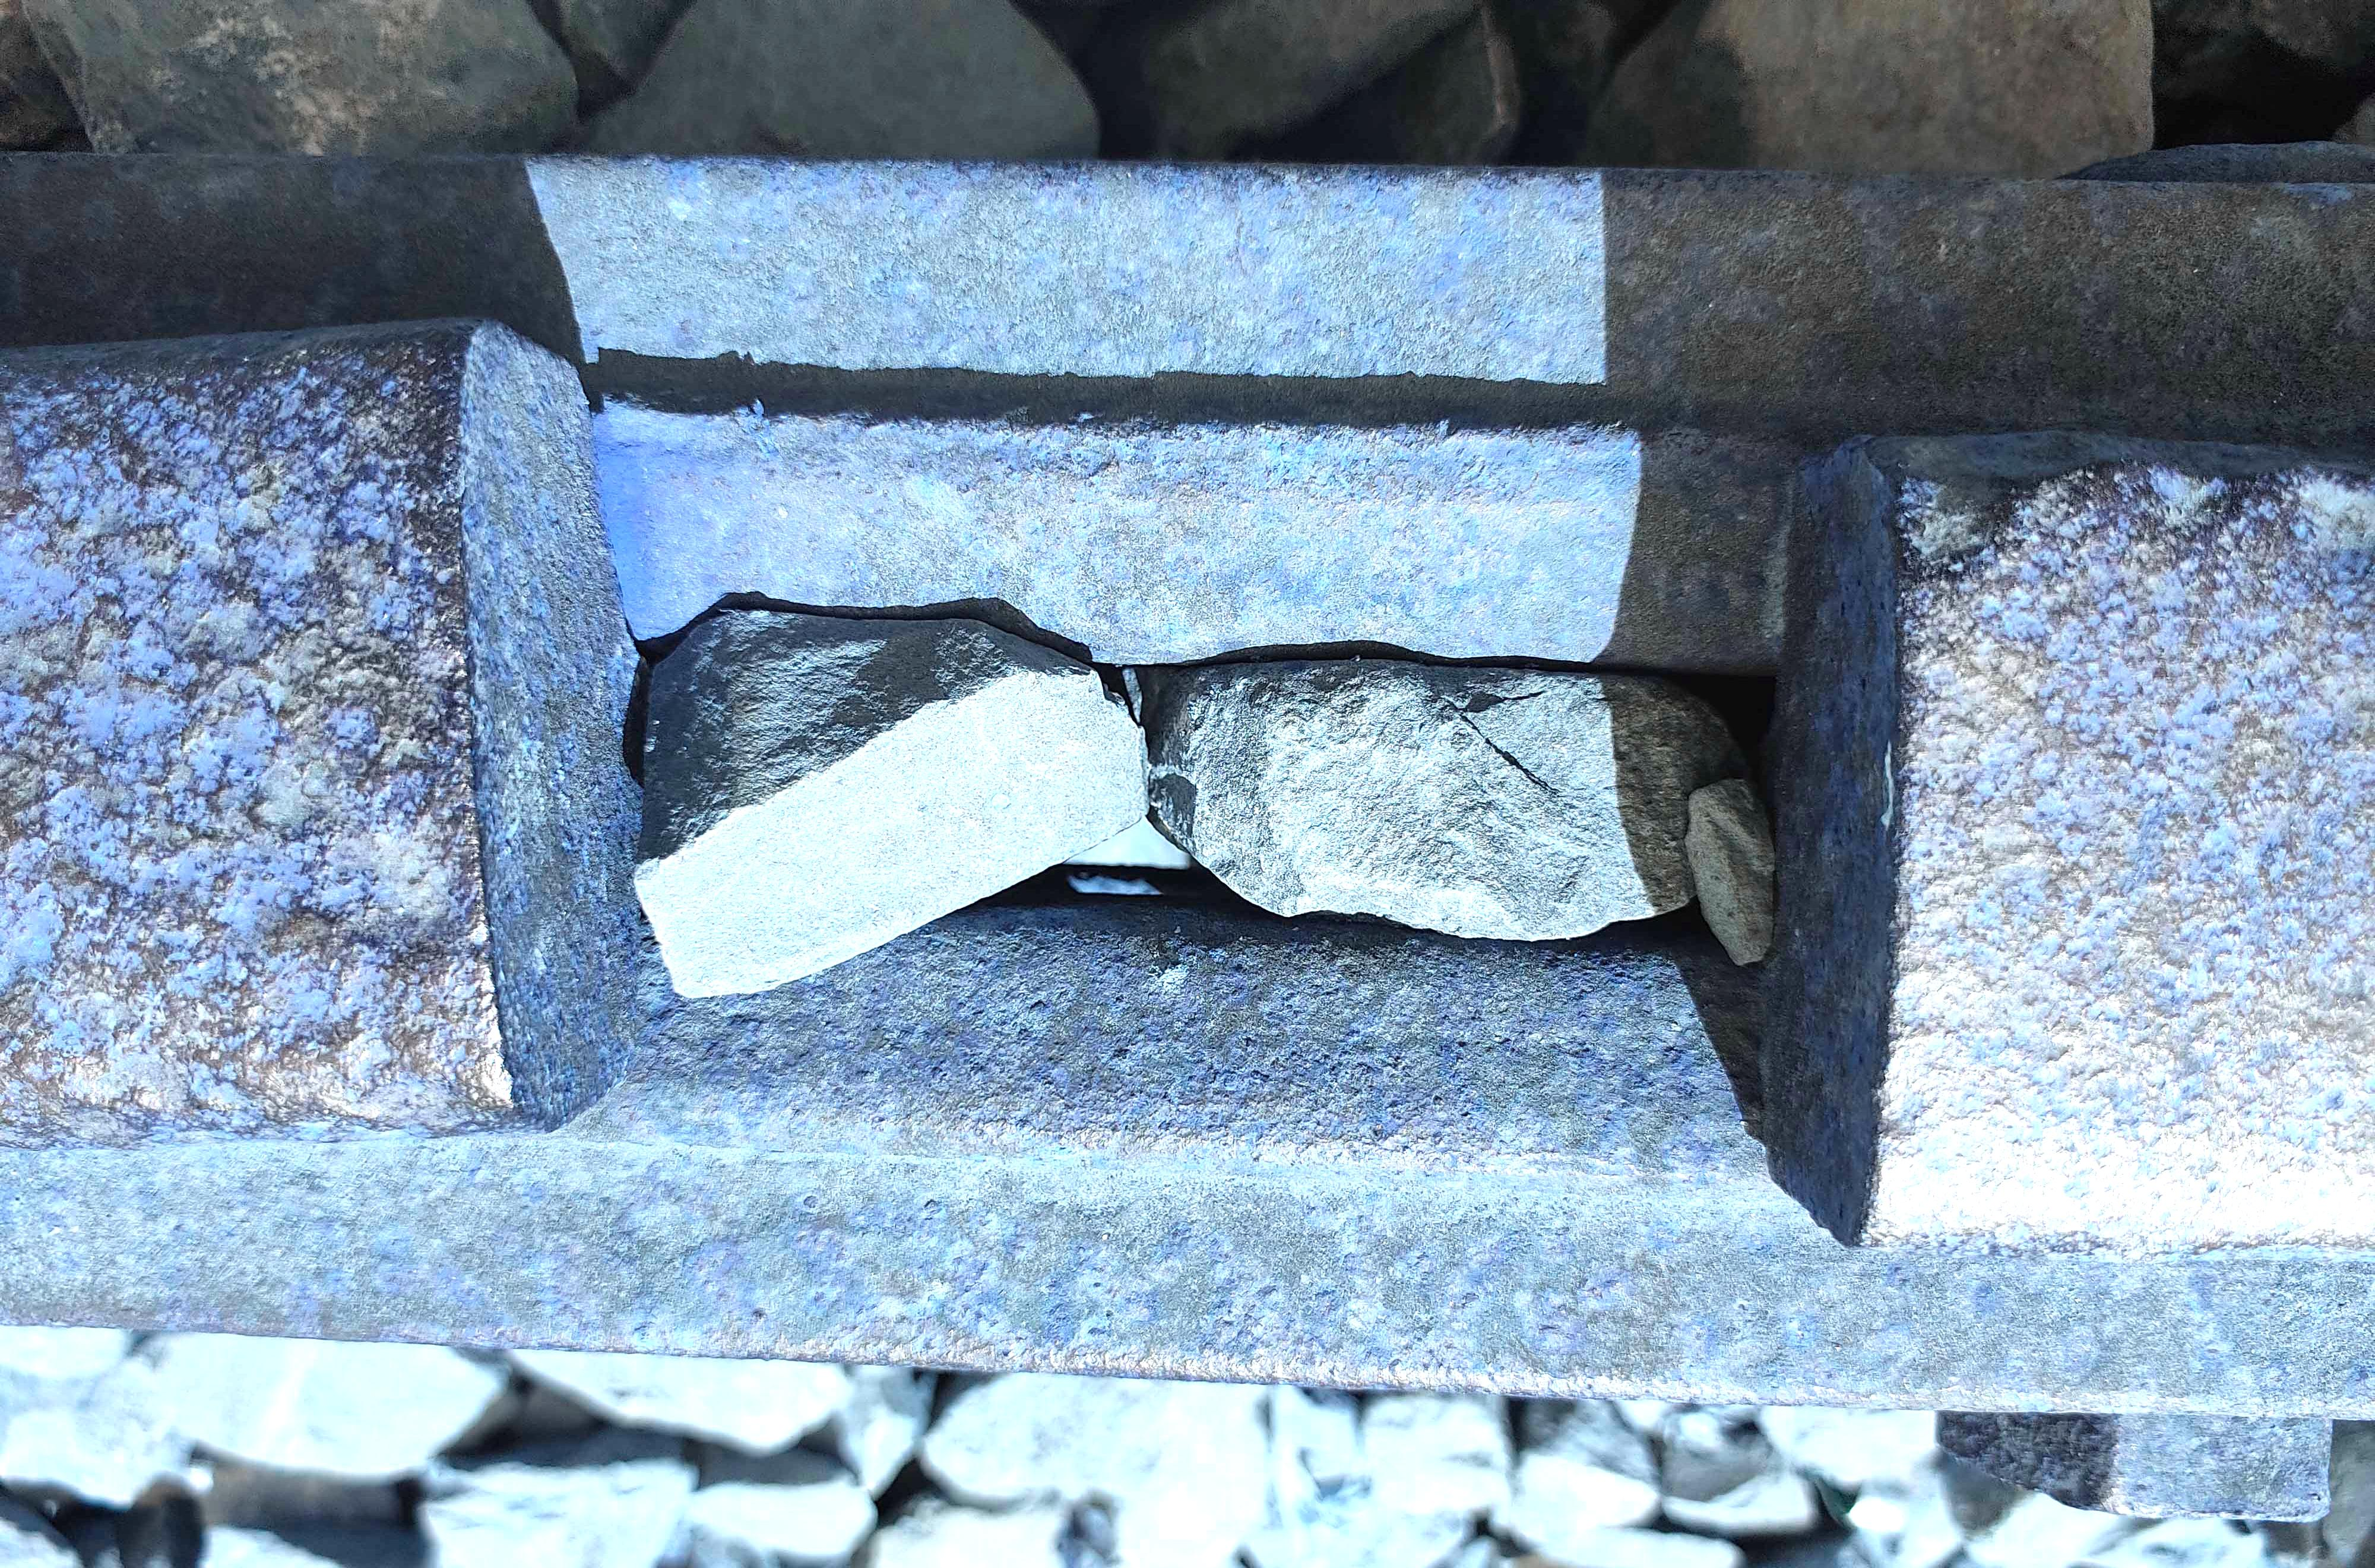error2: (375, 215, 2030, 1326)
